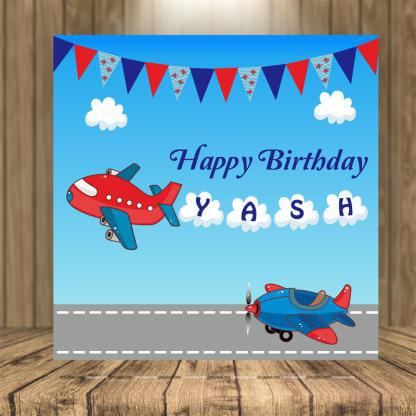CIV_Plane: (63, 160, 193, 270)
